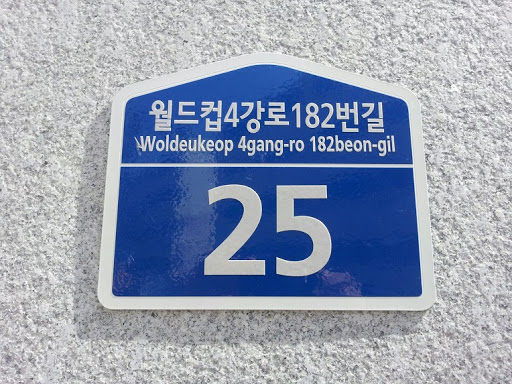building_license_plate1: (97, 52, 436, 310)
